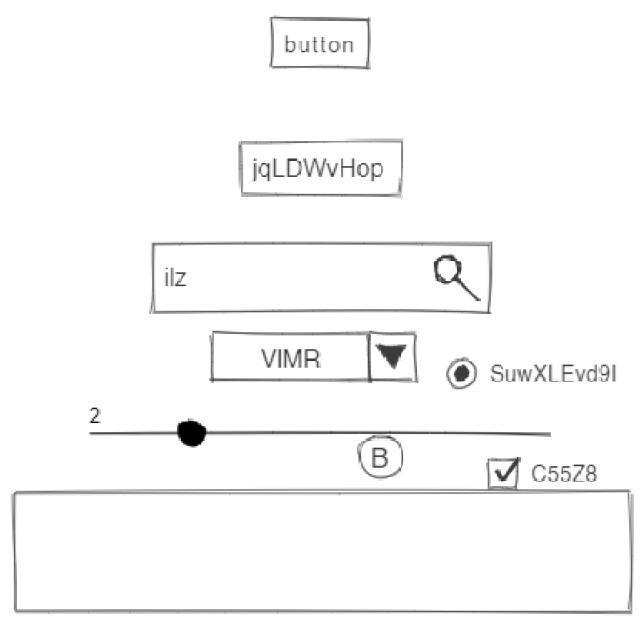button: (268, 14, 378, 74)
checkbox: (486, 455, 603, 492)
container: (10, 487, 638, 618)
icon-button: (358, 434, 407, 482)
input: (237, 136, 409, 200)
radio: (447, 357, 621, 392)
search: (149, 239, 498, 319)
select: (209, 328, 423, 389)
slider: (106, 417, 554, 452)
